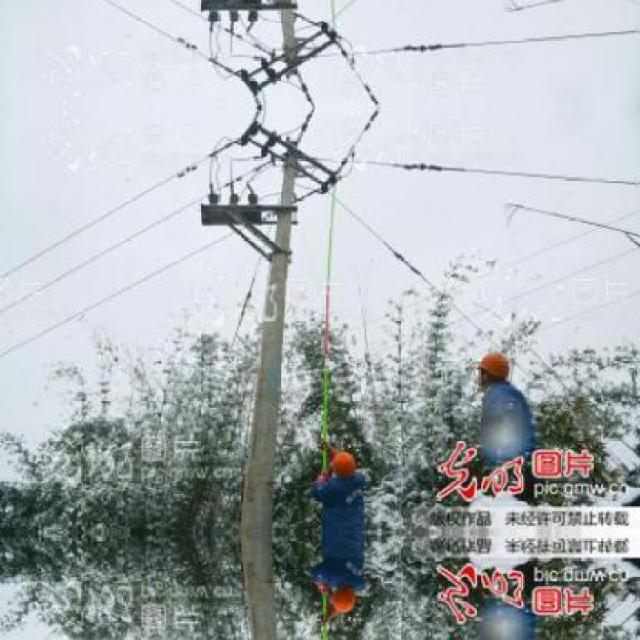helmet: (472, 346, 510, 386), (324, 444, 356, 478), (324, 584, 356, 618)
